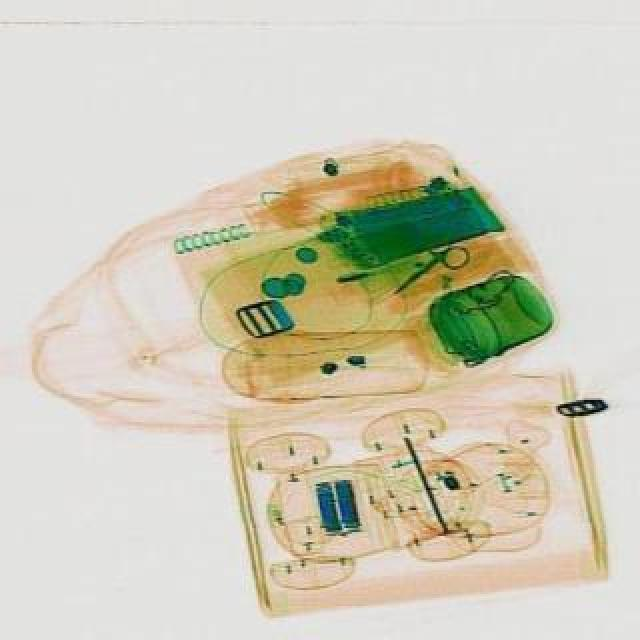pliers: (376, 224, 472, 308)
